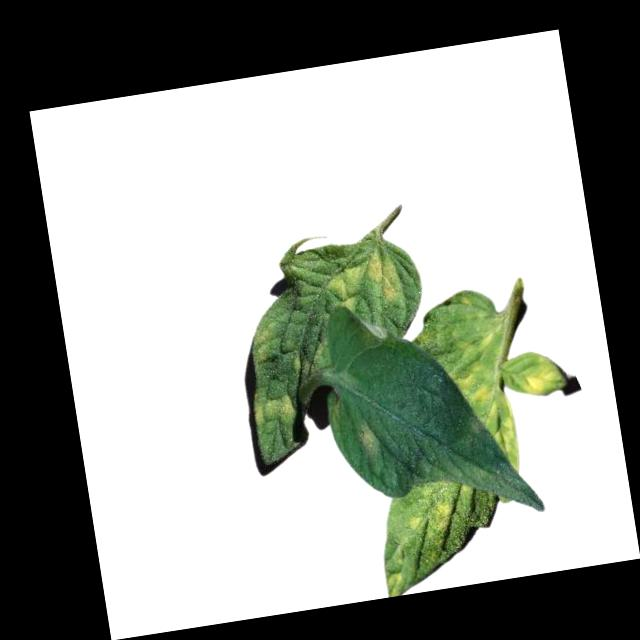Leaf_Mold: (445, 321, 523, 475), (322, 245, 406, 318), (406, 495, 459, 544), (516, 354, 567, 398), (252, 393, 299, 428), (251, 322, 277, 363), (383, 567, 411, 596), (356, 418, 379, 452)
